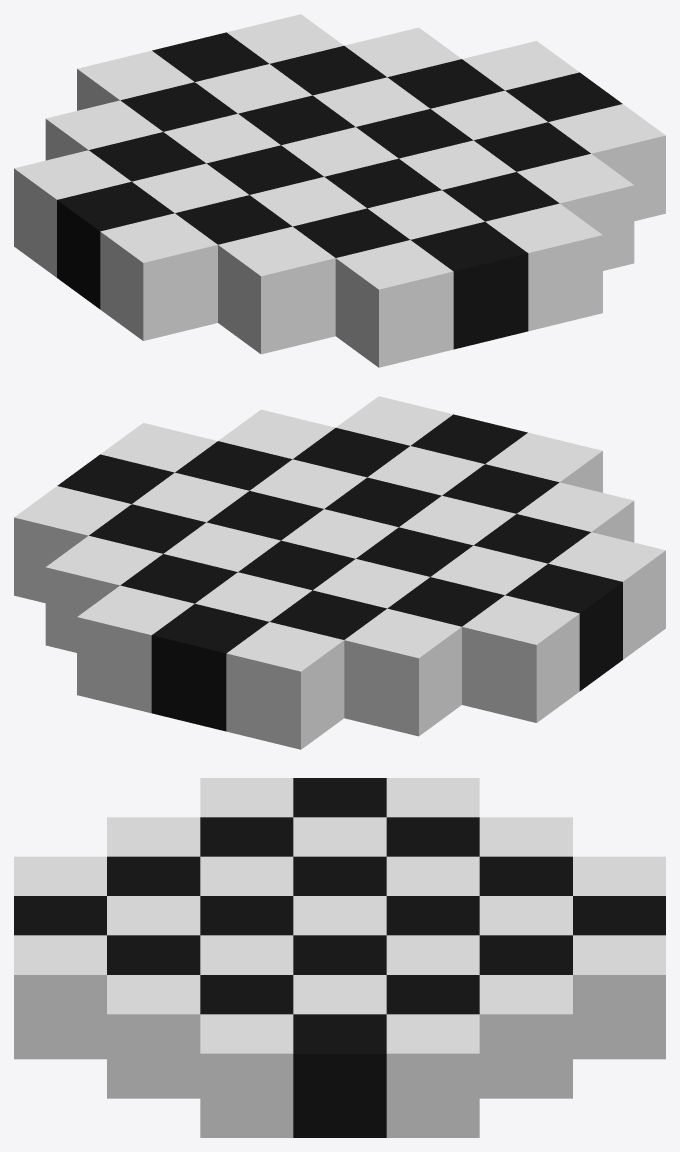
Rendered from Goal.gltf.
3 views of the same model, one above another, from view 1: azimuth 30°, elevation 25°; view 2: azimuth 150°, elevation 25°; view 3: azimuth 270°, elevation 25° (orthographic). The views are drawn at different scales.
Visible parts, largest first — view 1: Goal; view 2: Goal; view 3: Goal.
Part boxes in pixels (x1,y1,x2,y2): Goal: (14, 14, 665, 367); Goal: (14, 396, 665, 749); Goal: (14, 778, 665, 1137).
Size of the model in its own units: 0.7 by 0.1 by 0.7.
1 material, 1 textured.
